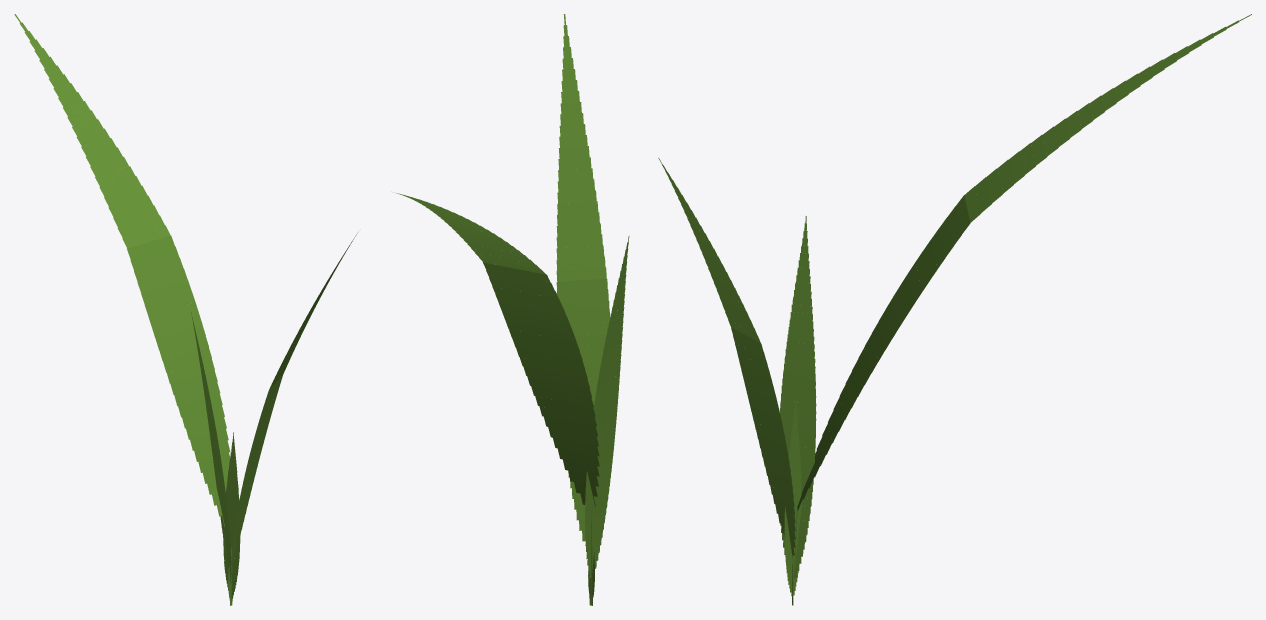
Rendered from maize_004_day_045.dae.
3 renders of one model, left to right at view 1: azimuth 30°, elevation 25°; view 2: azimuth 150°, elevation 25°; view 3: azimuth 270°, elevation 25°, orthographic. The views are drawn at different scales.
Visible parts, largest first — view 1: node; view 2: node; view 3: node.
Part boxes in pixels (box(x1,y1,x2,y2)): node: box(14, 14, 357, 605); node: box(396, 14, 629, 605); node: box(658, 14, 1251, 605).
Size of the model in its own units: 0.063 by 0.2508 by 0.2359.
1 material, 1 textured.
